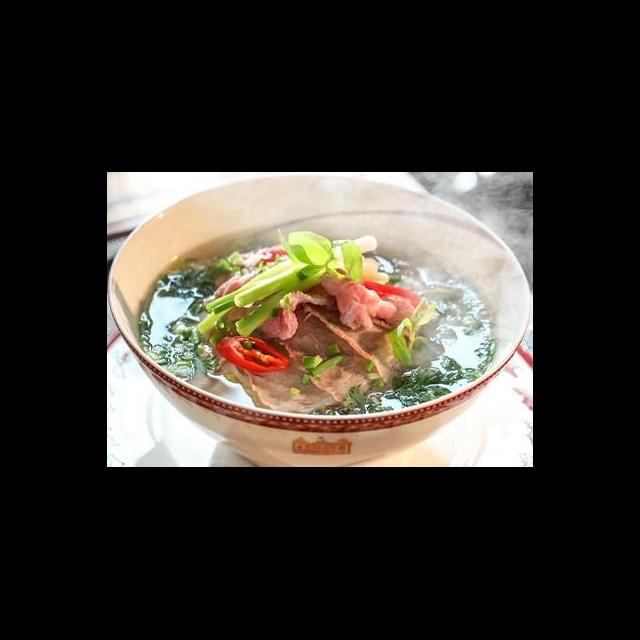thit bo: (245, 292, 406, 414), (194, 266, 338, 346), (315, 264, 396, 332)
